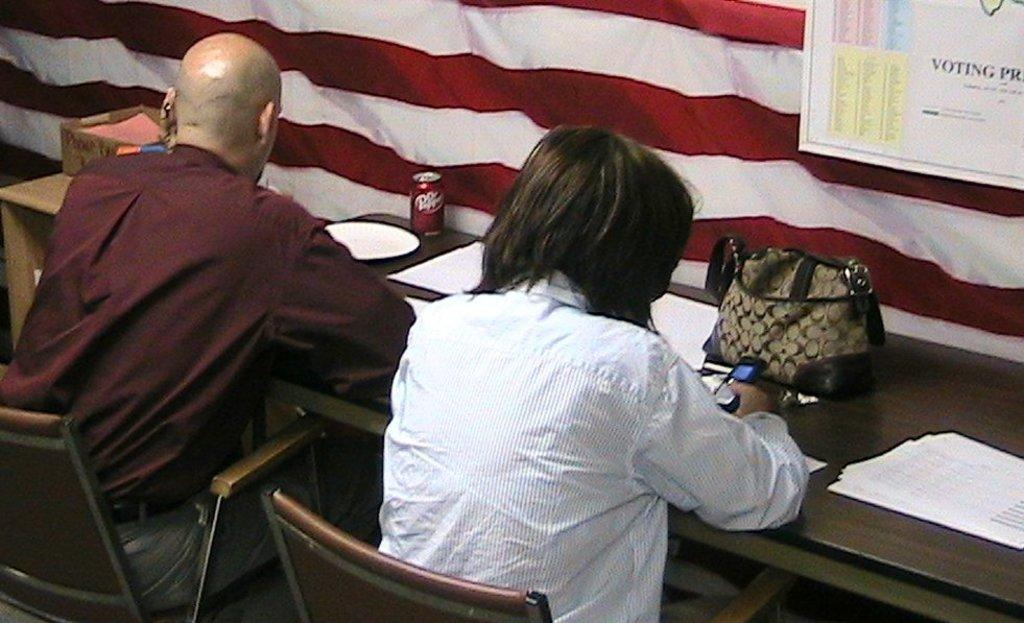Luggage-and-bags: (716, 232, 900, 408)
